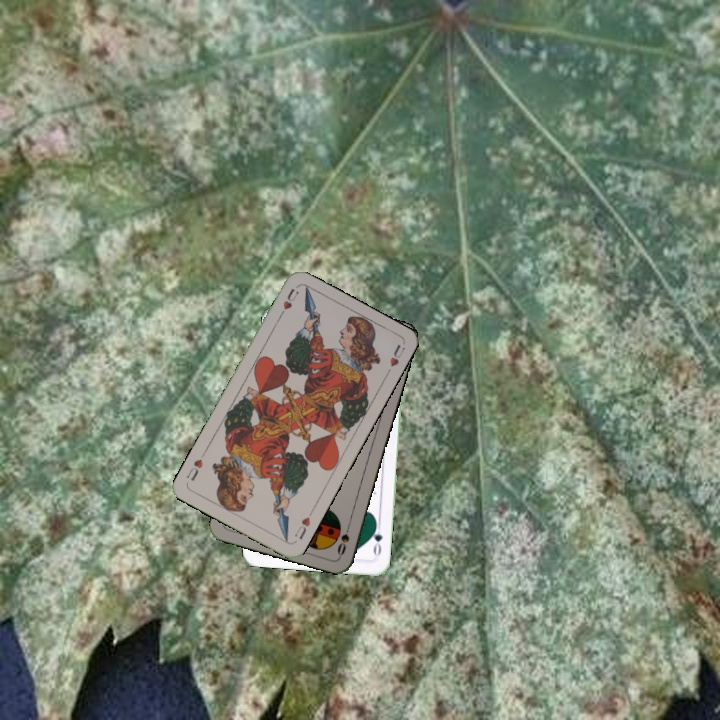GO: (368, 519, 385, 558)
HU: (275, 284, 301, 321), (290, 513, 313, 542)
SO: (333, 518, 353, 558)
